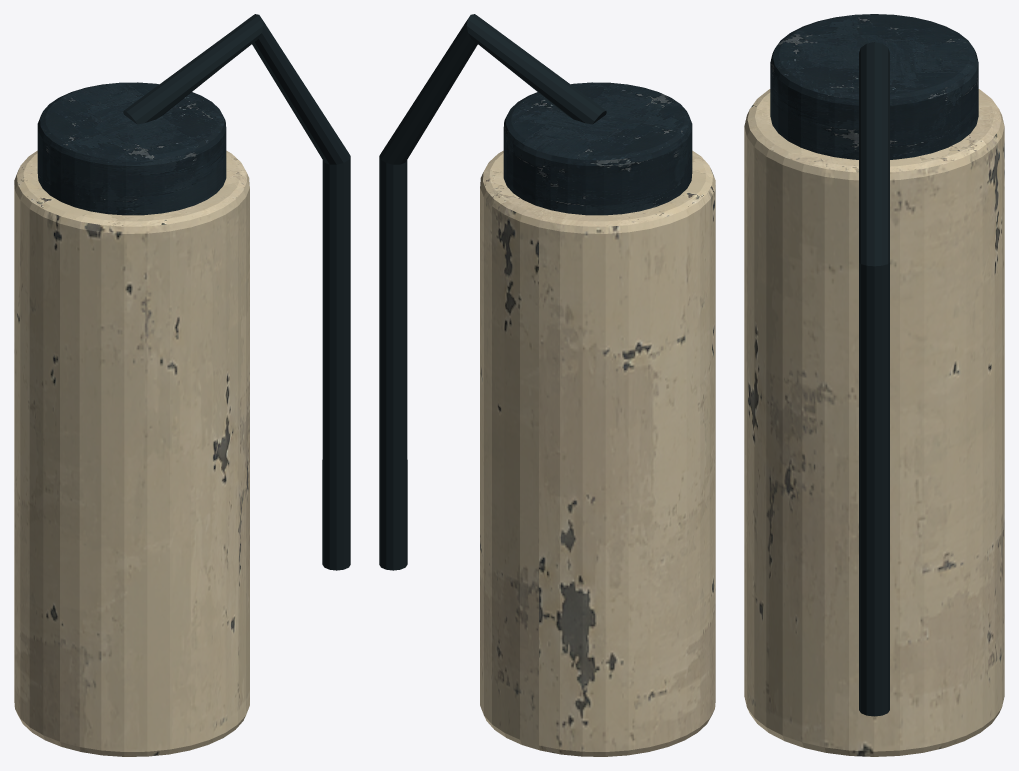
File: breathing-canister.glb
3 views of the same model, side by side, from view 1: azimuth 30°, elevation 25°; view 2: azimuth 150°, elevation 25°; view 3: azimuth 270°, elevation 25° (orthographic). The views are drawn at different scales.
Visible parts, largest first — view 1: breathing-canister__breathing-canister__ivory, breathing-canister__breathing-canister__steel, breathing-canister__breathing-canister__rubber; view 2: breathing-canister__breathing-canister__ivory, breathing-canister__breathing-canister__steel, breathing-canister__breathing-canister__rubber; view 3: breathing-canister__breathing-canister__ivory, breathing-canister__breathing-canister__steel, breathing-canister__breathing-canister__rubber.
Part boxes in pixels (x1,y1,x2,y2): breathing-canister__breathing-canister__ivory: (14,150,249,756); breathing-canister__breathing-canister__steel: (37,82,226,215); breathing-canister__breathing-canister__rubber: (123,14,350,570); breathing-canister__breathing-canister__ivory: (480,150,715,756); breathing-canister__breathing-canister__steel: (503,82,692,215); breathing-canister__breathing-canister__rubber: (379,14,606,570); breathing-canister__breathing-canister__ivory: (744,89,1004,756); breathing-canister__breathing-canister__steel: (770,14,978,159); breathing-canister__breathing-canister__rubber: (859,42,889,716).
Size of the model in its own units: 0.312 by 0.6211 by 0.2.
3 materials, 2 textured.
